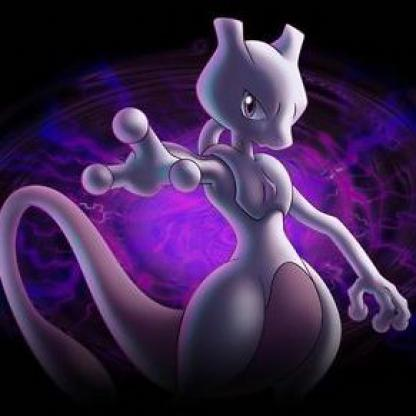Mewtwo: (1, 10, 416, 416)
